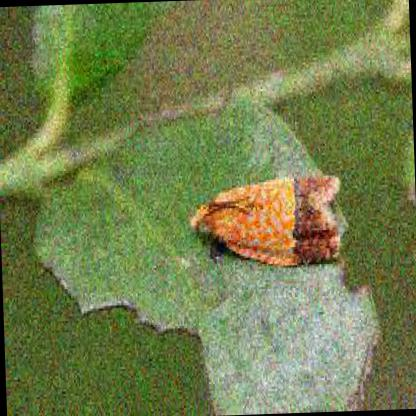Leaf Webber: (185, 174, 346, 275)
